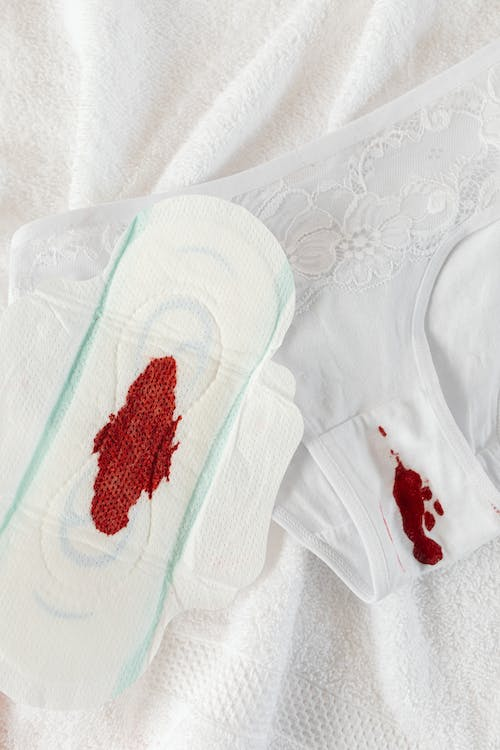blood: (86, 354, 185, 538), (374, 421, 447, 578)
